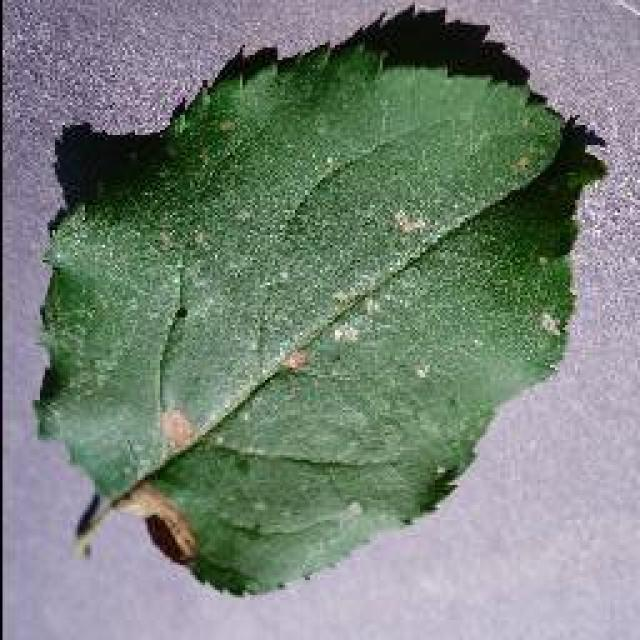Black_rot: (30, 0, 605, 598)
